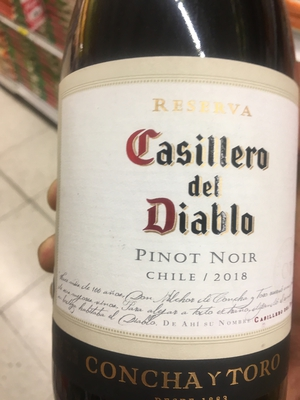casillero del diablo pinot noir: (53, 13, 299, 400)
